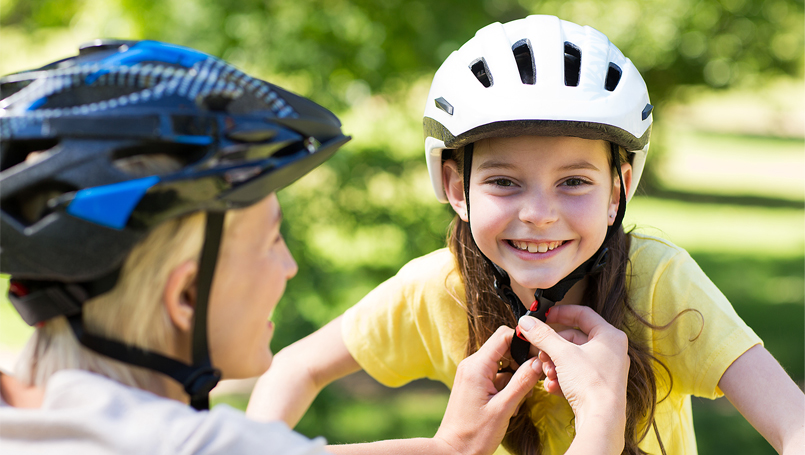helmet: (1, 38, 352, 380), (424, 14, 653, 289)
